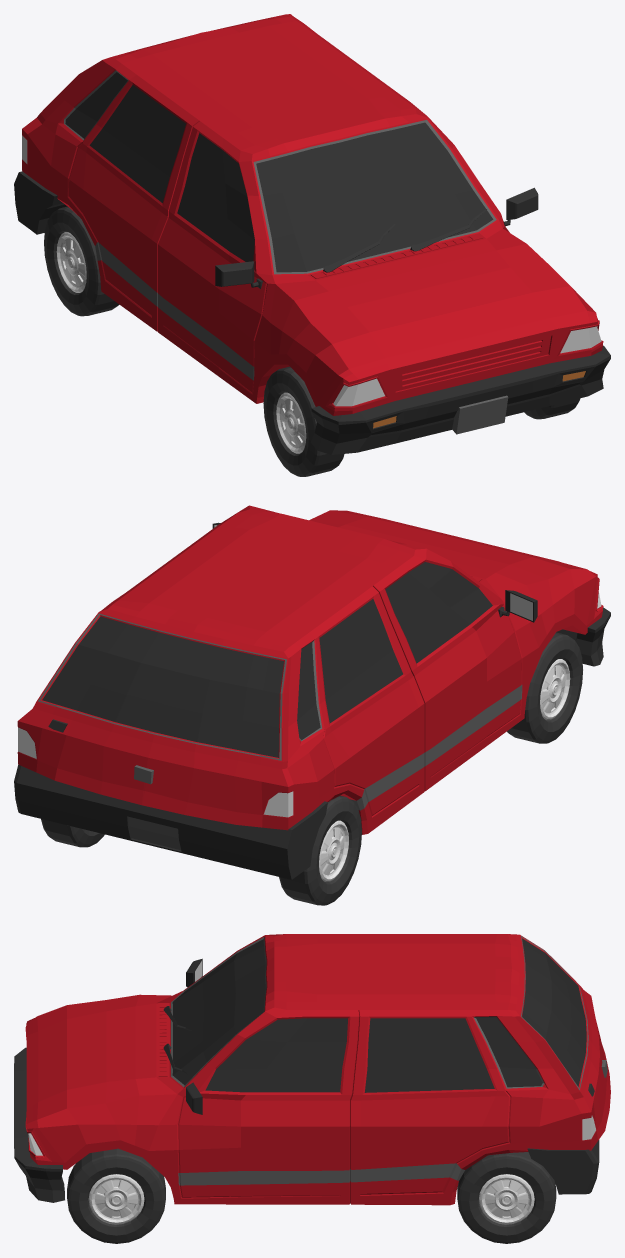
Rendered from coche 2.fbx.
The picture shows the model from 3 angles, top to bottom: view 1: azimuth 30°, elevation 25°; view 2: azimuth 150°, elevation 25°; view 3: azimuth 270°, elevation 25°; orthographic projection. The views are drawn at different scales.
Visible parts, largest first — view 1: car-body.016, car-body.017, tYRE.004, Front ac grill.004, Cube.005, Mirror.004, Plate.004, Wiperbase.004; view 2: car-body.016, Cube.005, tYRE.004, car-body.017, Mirror.004; view 3: car-body.016, tYRE.004, car-body.017, Cube.005, Mirror.004, Wiperbase.004.
Part boxes in pixels (x1,y1,x2,y2): car-body.016: [22, 14, 603, 415]; car-body.017: [310, 345, 610, 454]; tYRE.004: [44, 206, 580, 476]; Front ac grill.004: [395, 336, 551, 391]; Cube.005: [14, 171, 67, 234]; Mirror.004: [215, 187, 538, 288]; Plate.004: [452, 395, 508, 434]; Wiperbase.004: [311, 234, 482, 278]; car-body.016: [17, 505, 603, 834]; Cube.005: [14, 764, 327, 879]; tYRE.004: [41, 632, 582, 905]; car-body.017: [556, 607, 610, 666]; Mirror.004: [212, 522, 537, 622]; car-body.016: [25, 934, 610, 1205]; tYRE.004: [67, 1148, 556, 1243]; car-body.017: [14, 1047, 64, 1202]; Cube.005: [527, 1139, 599, 1194]; Mirror.004: [186, 958, 202, 1114]; Wiperbase.004: [158, 1003, 167, 1076].
Size of the model in its own units: 169 by 125 by 309.
